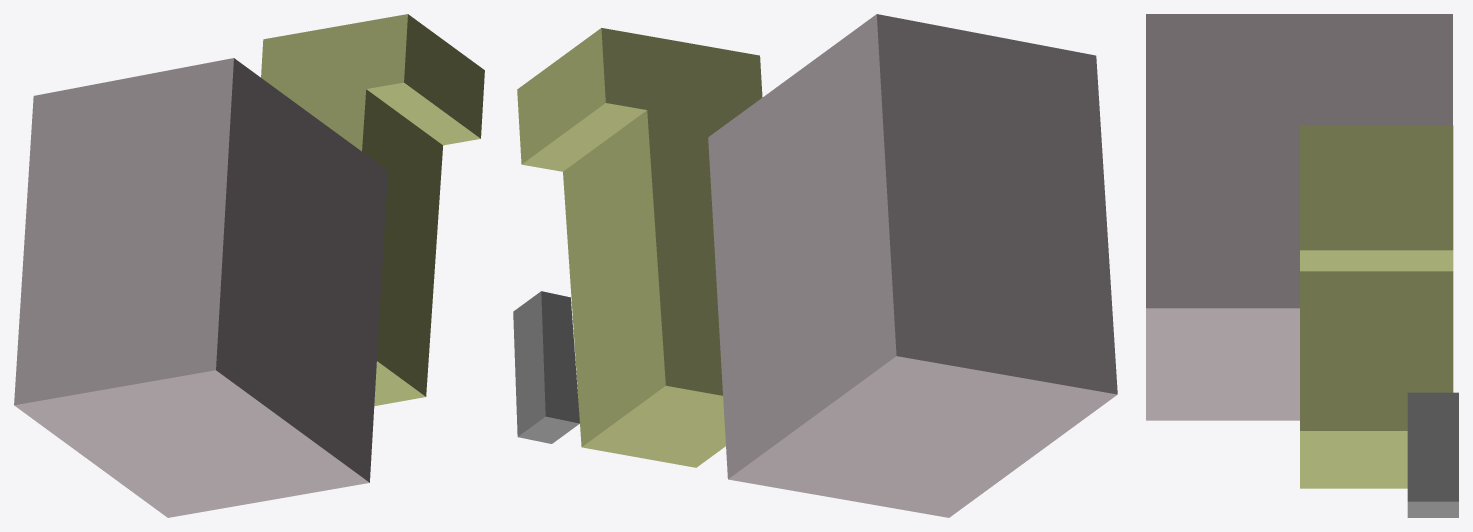
3 renders of one model, left to right at view 1: azimuth 30°, elevation 25°; view 2: azimuth 150°, elevation 25°; view 3: azimuth 270°, elevation 25°, orthographic. The views are drawn at different scales.
Parts seen in each view (by area): view 1: 0_2_1_3_0_3_0_1_1; view 2: 0_2_1_3_0_3_0_1_1; view 3: 0_2_1_3_0_3_0_1_1.
Boxes of the visible parts, x1,y1,x2,y2 form: 0_2_1_3_0_3_0_1_1: (14, 14, 484, 517); 0_2_1_3_0_3_0_1_1: (513, 14, 1117, 517); 0_2_1_3_0_3_0_1_1: (1146, 14, 1458, 517).
Size of the model in its own units: 26.67 by 20.94 by 18.34.
